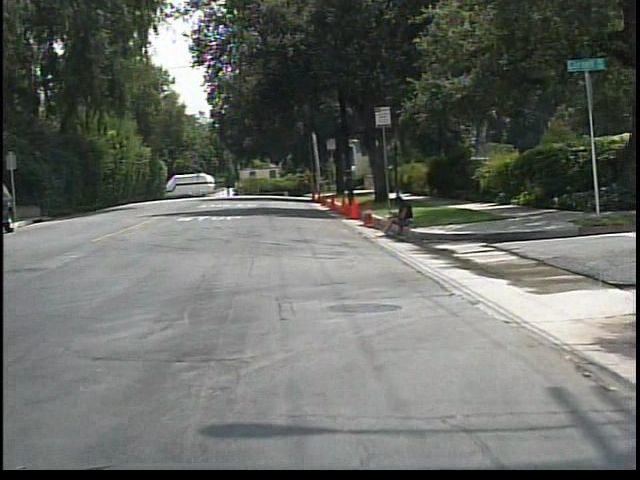person: (375, 191, 424, 242)
